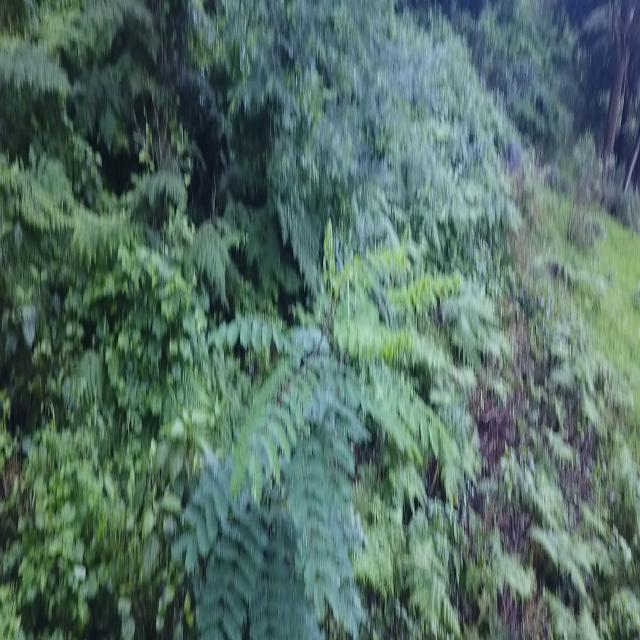Mysore-Thorn-Weed: (170, 299, 381, 640)
